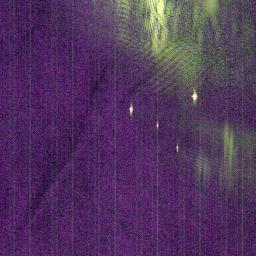Ship: (190, 88, 198, 103), (126, 103, 135, 115), (173, 142, 180, 154), (154, 120, 161, 130)
